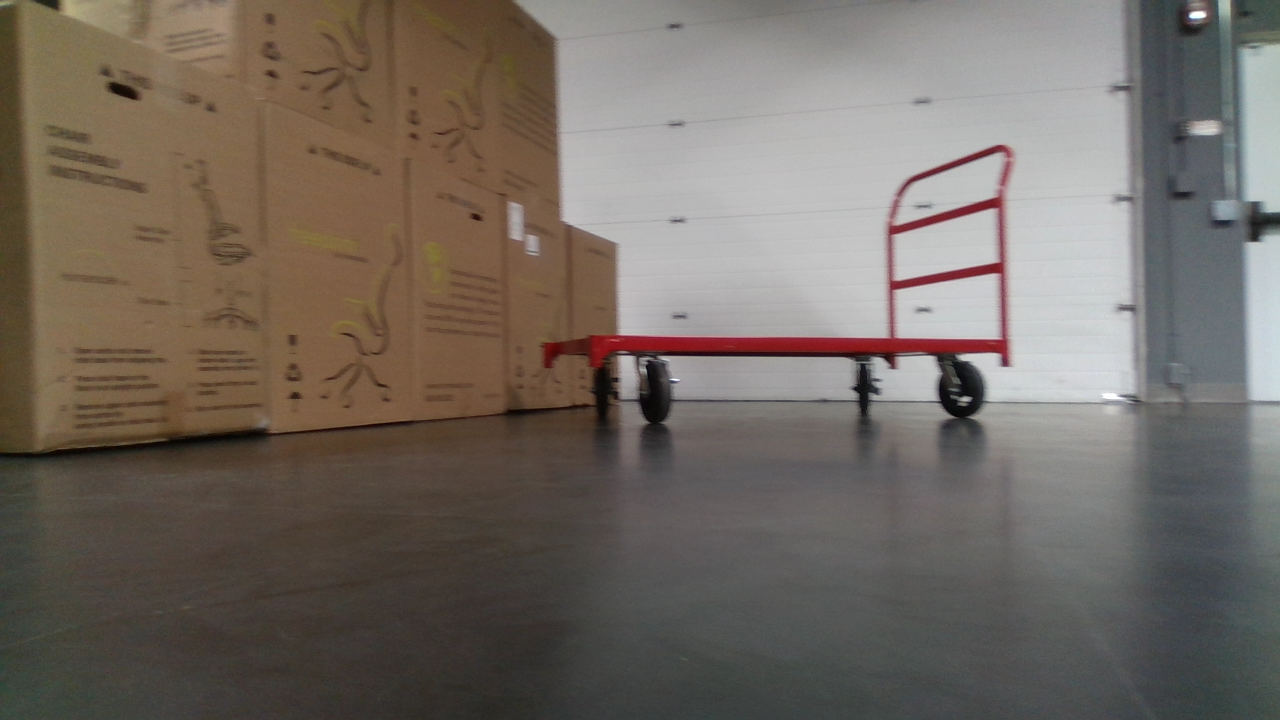Dolly: (541, 144, 1017, 426)
Wheel: (934, 357, 989, 416), (635, 355, 677, 424), (850, 361, 882, 416), (589, 362, 620, 414)
